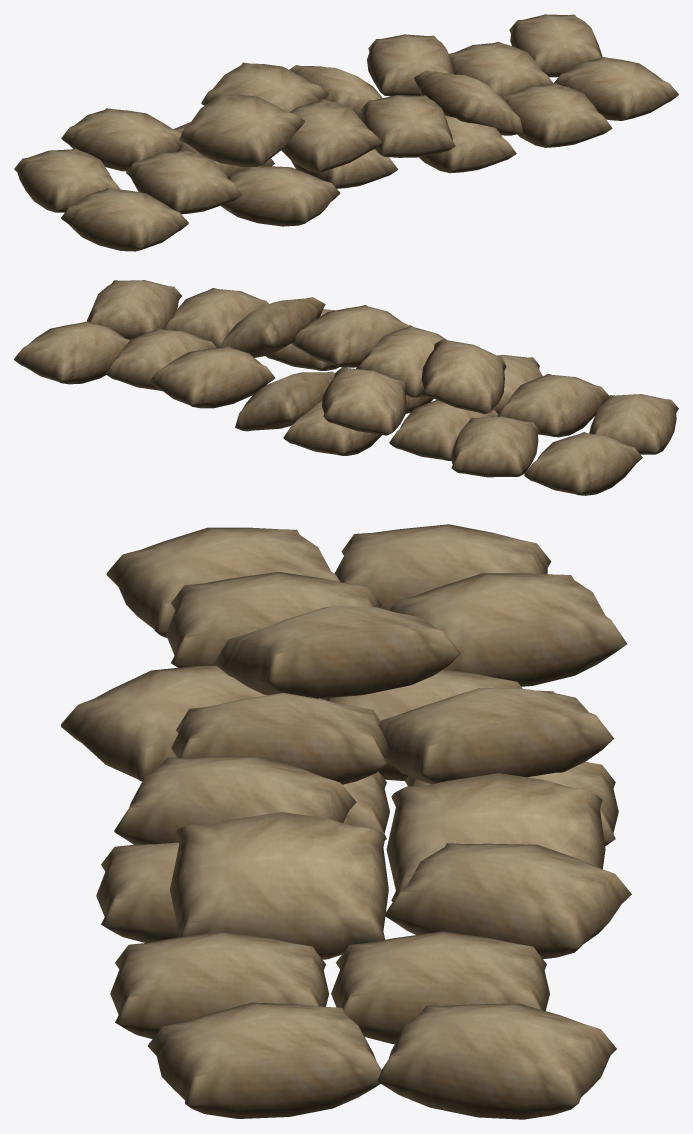
File: Map02_UaBcM_01.FBX
The picture shows the model from 3 angles, top to bottom: view 1: azimuth 30°, elevation 25°; view 2: azimuth 150°, elevation 25°; view 3: azimuth 270°, elevation 25°; orthographic projection. The views are drawn at different scales.
Parts seen in each view (by area): view 1: Map02_UaBcM_01; view 2: Map02_UaBcM_01; view 3: Map02_UaBcM_01.
Part boxes in pixels (box(x1,y1,x2,y2)): Map02_UaBcM_01: box(14, 14, 678, 251); Map02_UaBcM_01: box(14, 280, 678, 495); Map02_UaBcM_01: box(61, 524, 631, 1119).
Size of the model in its own units: 3080 by 394 by 1318.
